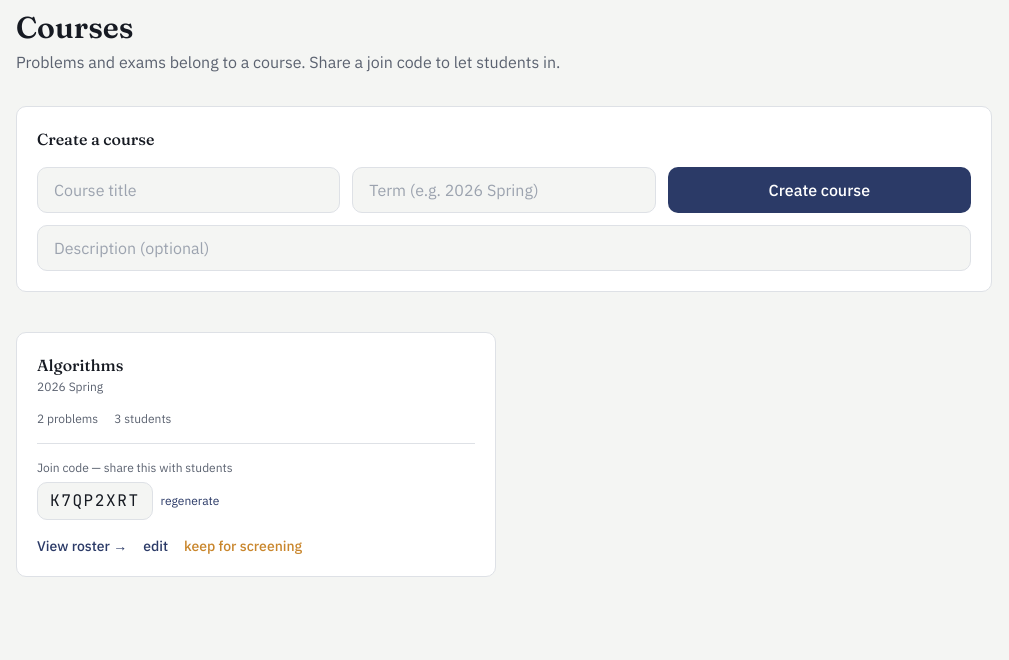
Test: the screening archive › archives a finished course from the courses page
Click the button with aria-label "keep algorithms for screening" at (243, 546), box top-left (184, 536), bottom-right (302, 556)
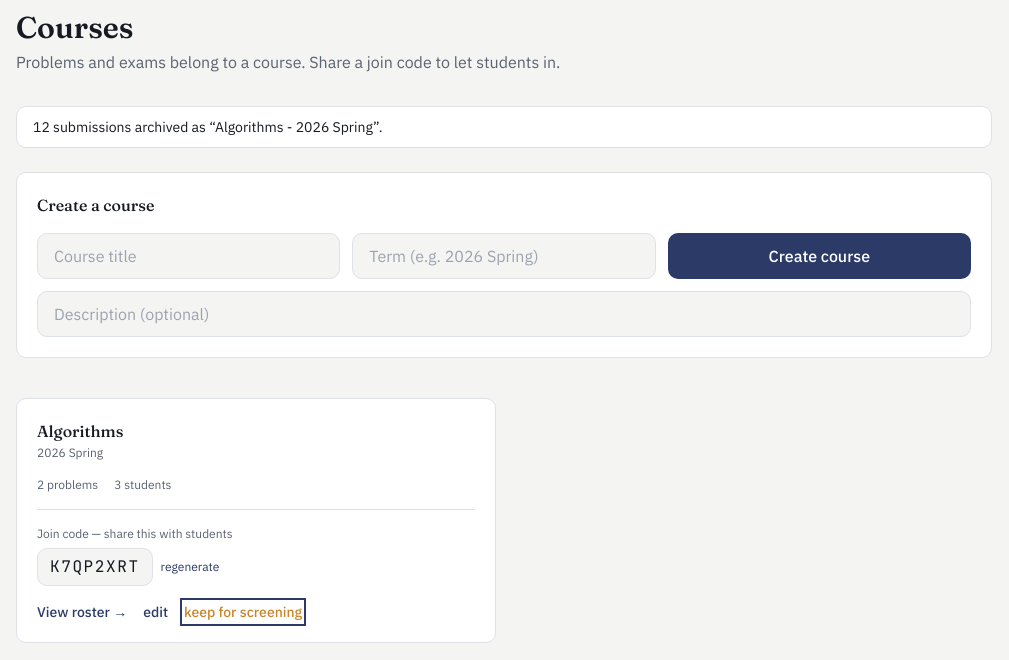
Check: the text "12 submissions archived as “Algorithms - 2026 Spring”." is shown, box top-left (16, 106), bottom-right (992, 148)
